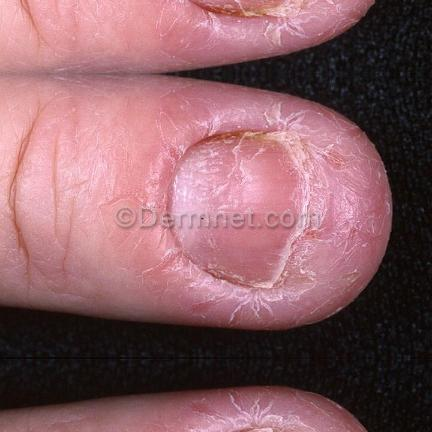Nail: (167, 131, 307, 289), (192, 0, 290, 15), (235, 426, 274, 432)
